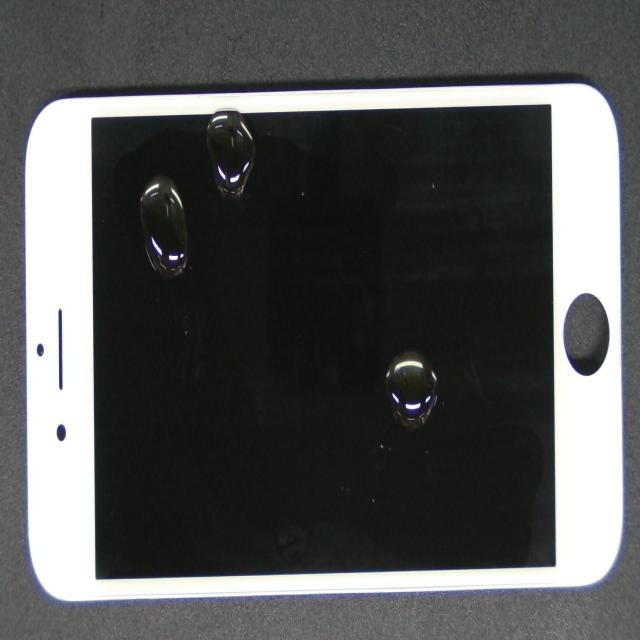oil: (236, 182, 635, 537), (125, 94, 382, 230), (108, 112, 259, 287)
